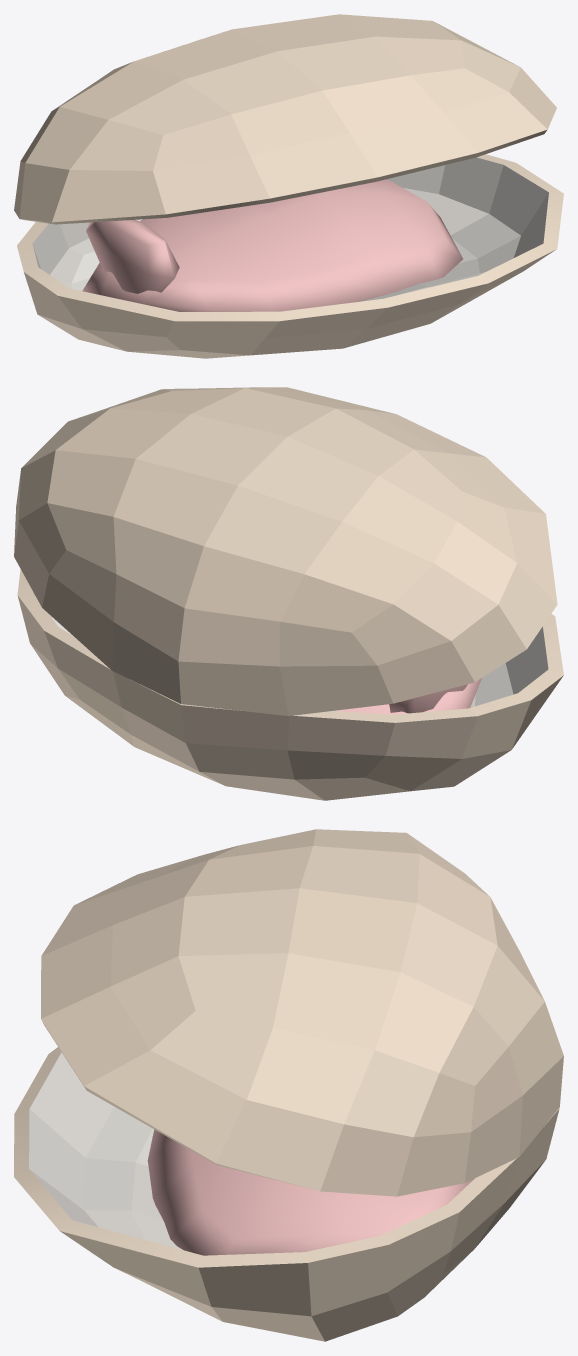
The model's file is Mesh_Clam.obj.
The picture shows the model from 3 angles, top to bottom: view 1: azimuth 30°, elevation 25°; view 2: azimuth 150°, elevation 25°; view 3: azimuth 270°, elevation 25°; orthographic projection. The views are drawn at different scales.
Visible parts, largest first — view 1: Geo_Clam; view 2: Geo_Clam; view 3: Geo_Clam.
Boxes of the visible parts, box(x1,y1,x2,y2) form: Geo_Clam: box(14, 14, 563, 358); Geo_Clam: box(14, 387, 563, 800); Geo_Clam: box(14, 829, 563, 1341).
Size of the model in its own units: 42.88 by 24.8 by 32.61.
1 material, 1 textured.
